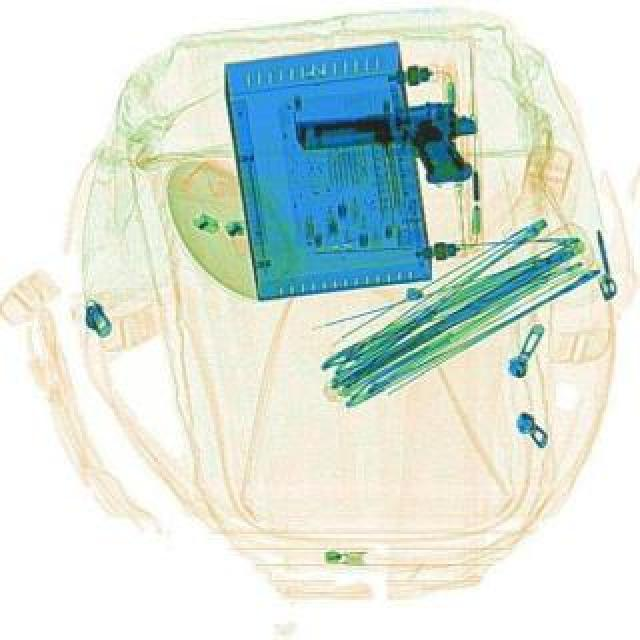gun: (290, 96, 482, 196)
